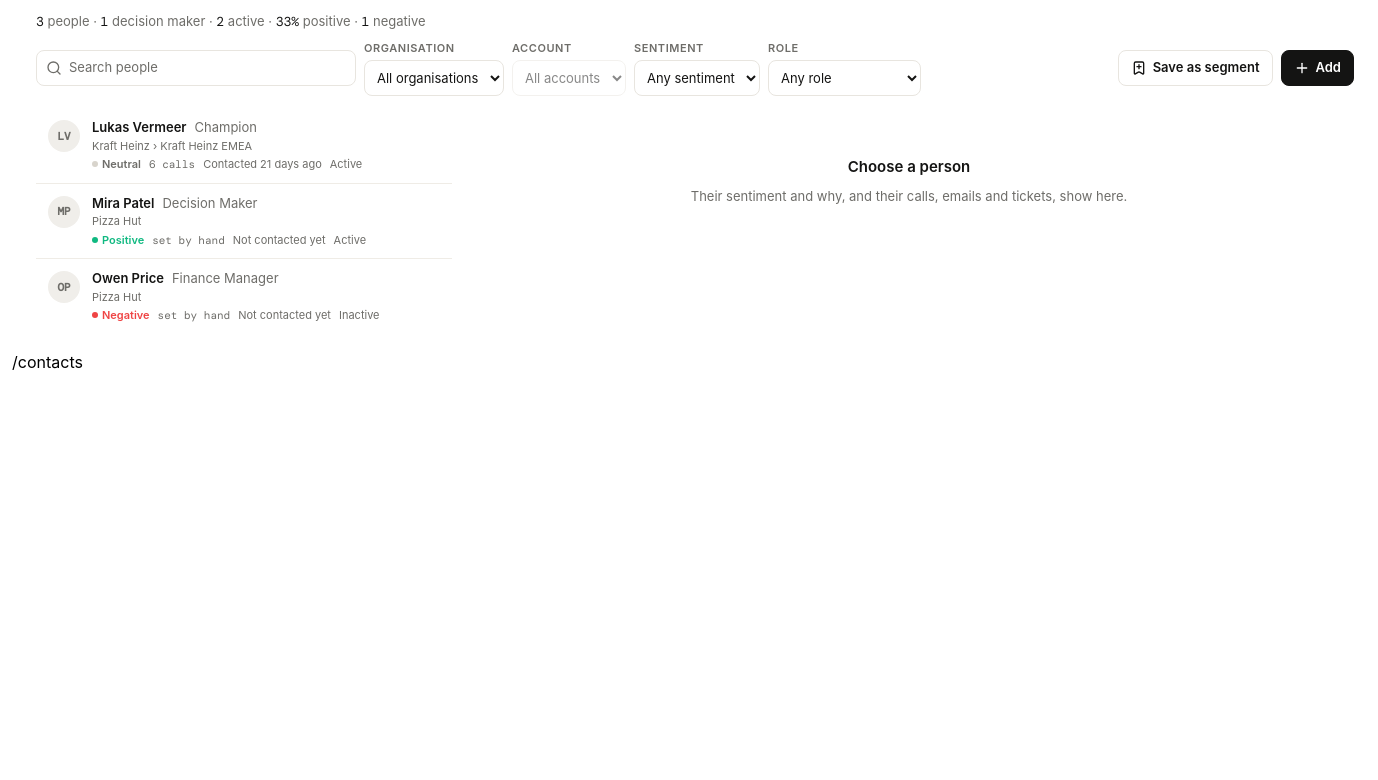
Test: Contacts page (spec 2026-09-28 §3) › a filter writes the URL and reads again; choosing a person keeps the filters
The width and height of the screenshot is (1378, 780).
Expected: the list named "People" is shown, top-left (36, 108), bottom-right (452, 334)
Select "Negative" in the dropdown labelled "Sentiment" at coordinates (697, 78), box top-left (634, 60), bottom-right (760, 96)
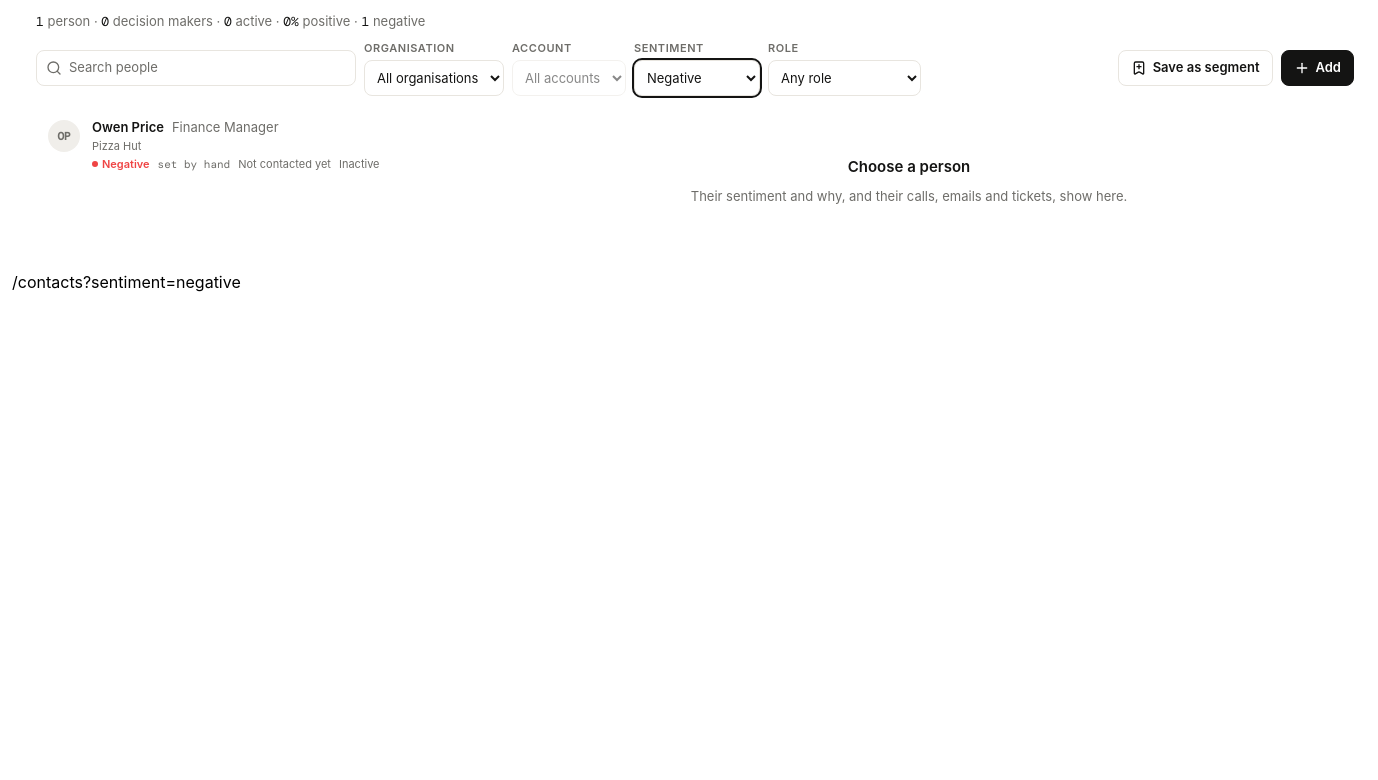
Now the number of list items is 1
Now the text with test id "where" reads "/contacts?sentiment=negative", box top-left (12, 272), bottom-right (241, 292)
Click the link.
click(64, 136)  # box top-left (48, 119), bottom-right (380, 171)
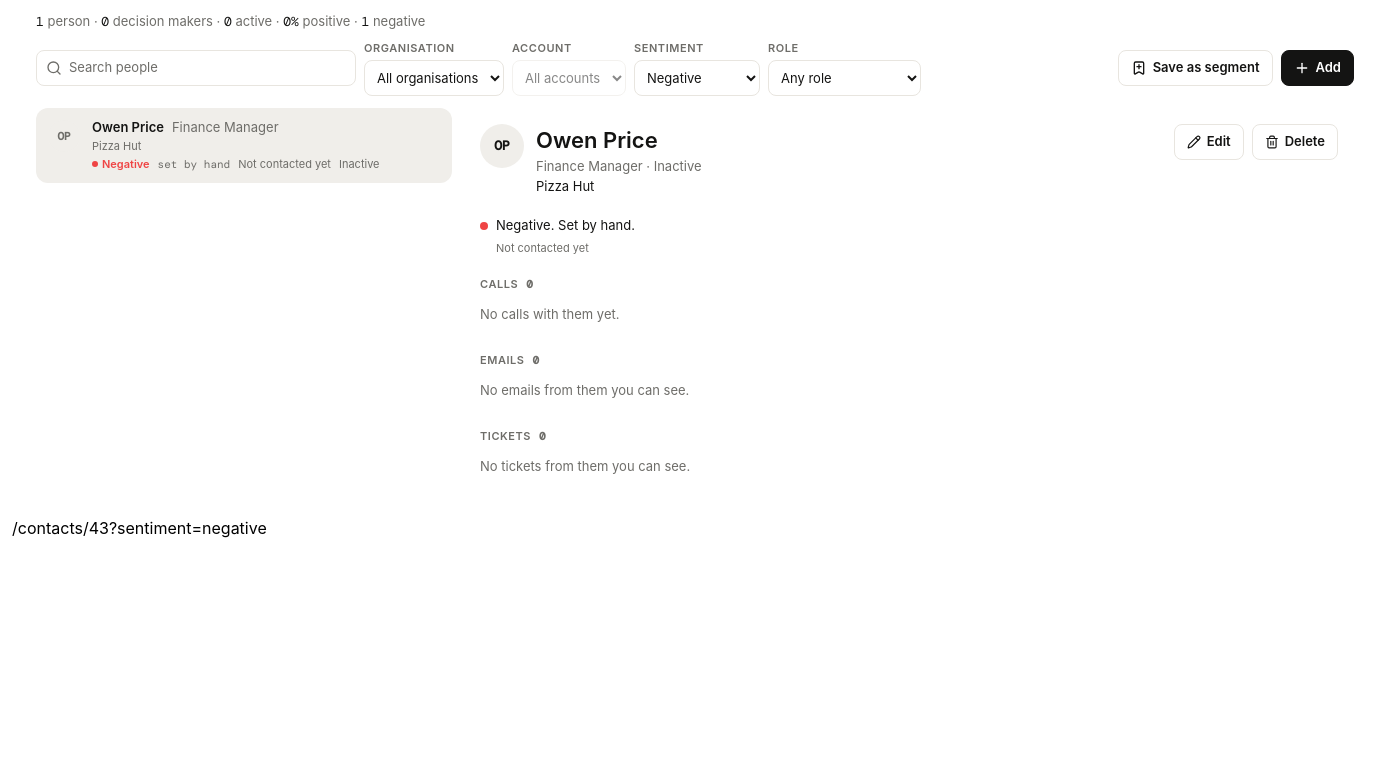
Now the text with test id "where" reads "/contacts/43?sentiment=negative", box top-left (12, 518), bottom-right (267, 538)
Now the heading "Owen Price" is shown, box top-left (536, 127), bottom-right (658, 153)
